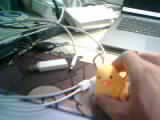duck: (88, 61, 131, 99)
